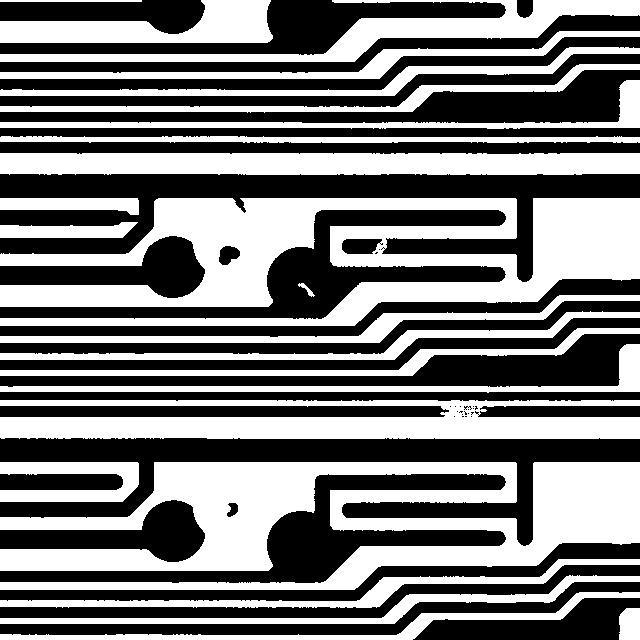copper: (209, 236, 249, 274), (217, 493, 247, 526)
open: (430, 394, 496, 427), (362, 226, 396, 264)
pin-hole: (288, 273, 324, 306)
short: (107, 201, 151, 231)
spur: (222, 183, 255, 222)
